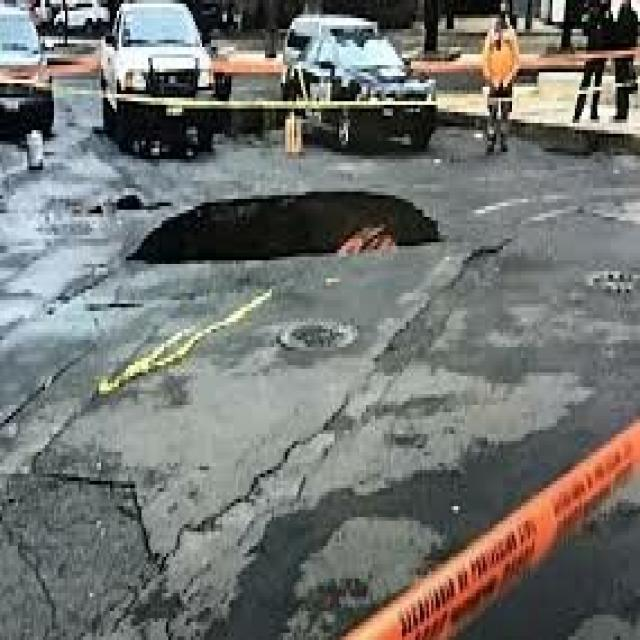Pothole: (76, 162, 496, 314)
